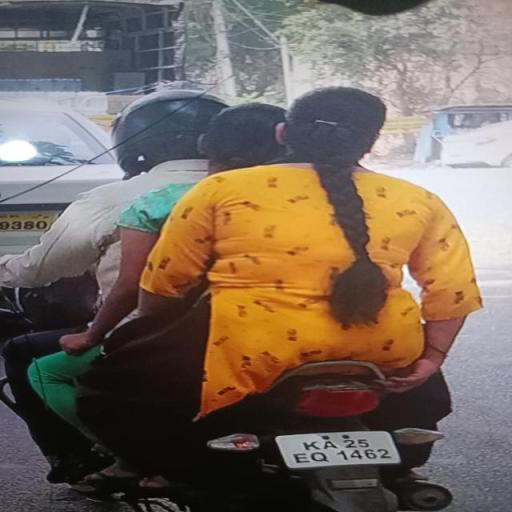tripple riding: (5, 85, 483, 364)
